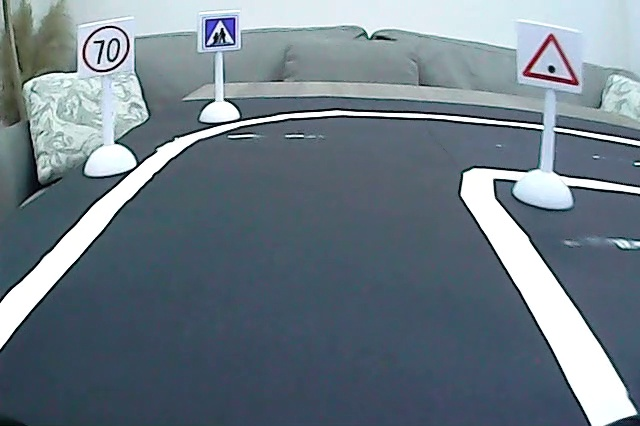green light: (518, 25, 581, 91)
school crossing: (201, 15, 238, 49)
speed limit 70: (81, 21, 133, 77)
